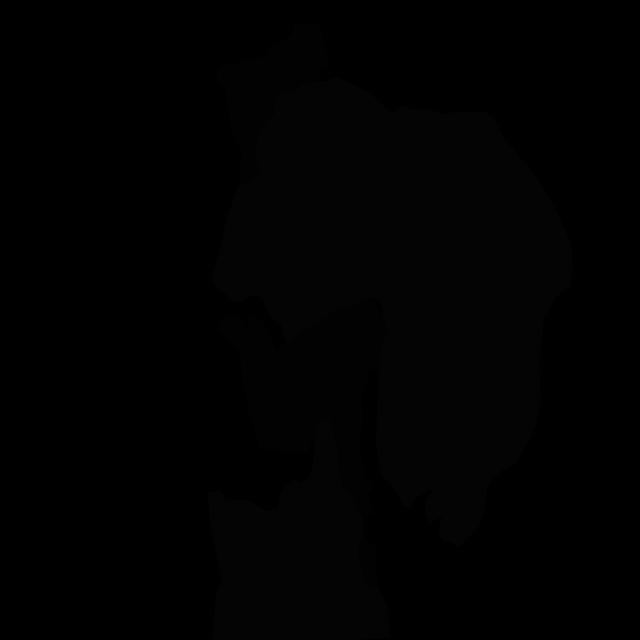cardboard: (216, 298, 388, 517), (217, 24, 329, 185), (358, 535, 379, 588)
soft_plastic: (212, 77, 573, 547), (208, 418, 390, 640)
